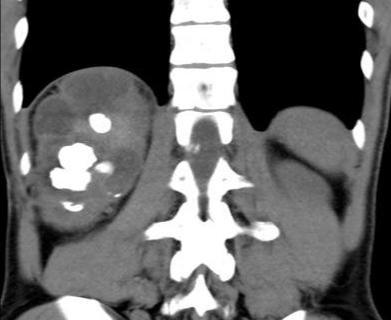Tas_Var: (56, 141, 98, 171), (48, 167, 92, 191), (86, 105, 113, 138), (92, 159, 117, 177), (56, 198, 86, 212), (114, 190, 124, 200), (104, 190, 112, 197)
